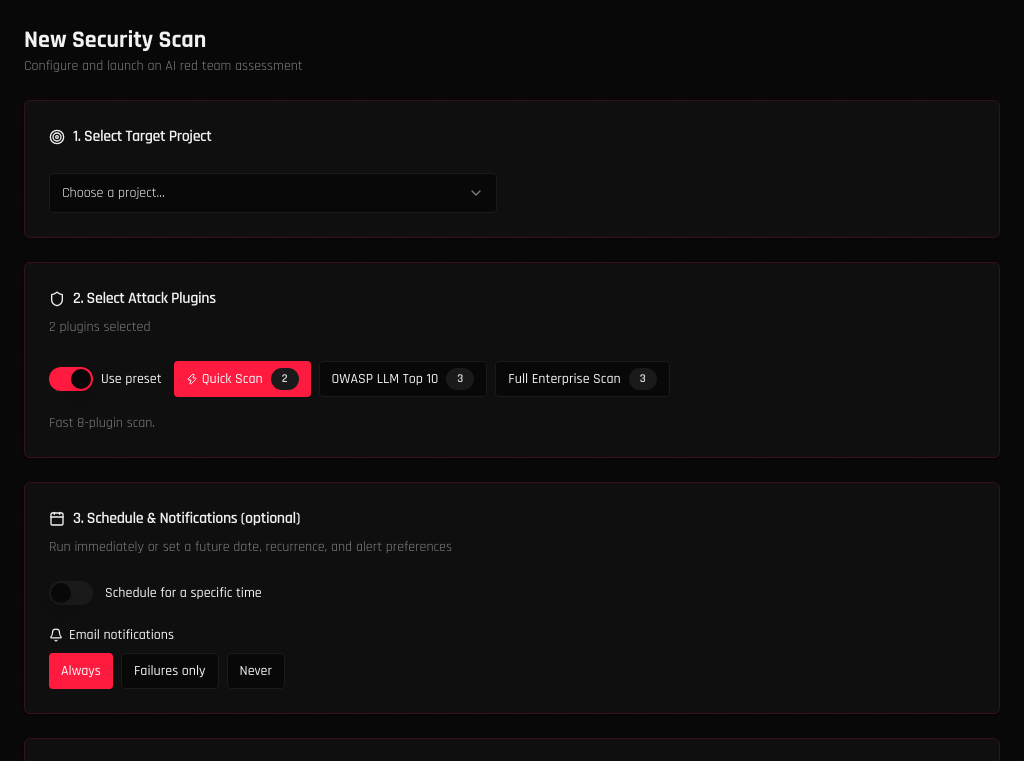
Scenario: ScanBuilder page › shows the plugin catalog grid after toggling off 'Use preset'
The image size is (1024, 761).
Expected: the text "Use preset" is shown, [101, 372, 162, 386]
# Toggle off "Use preset" to show the manual plugin grid
Click the switch named "use preset" next to "Use preset".
click(71, 379)  # box [49, 367, 93, 391]
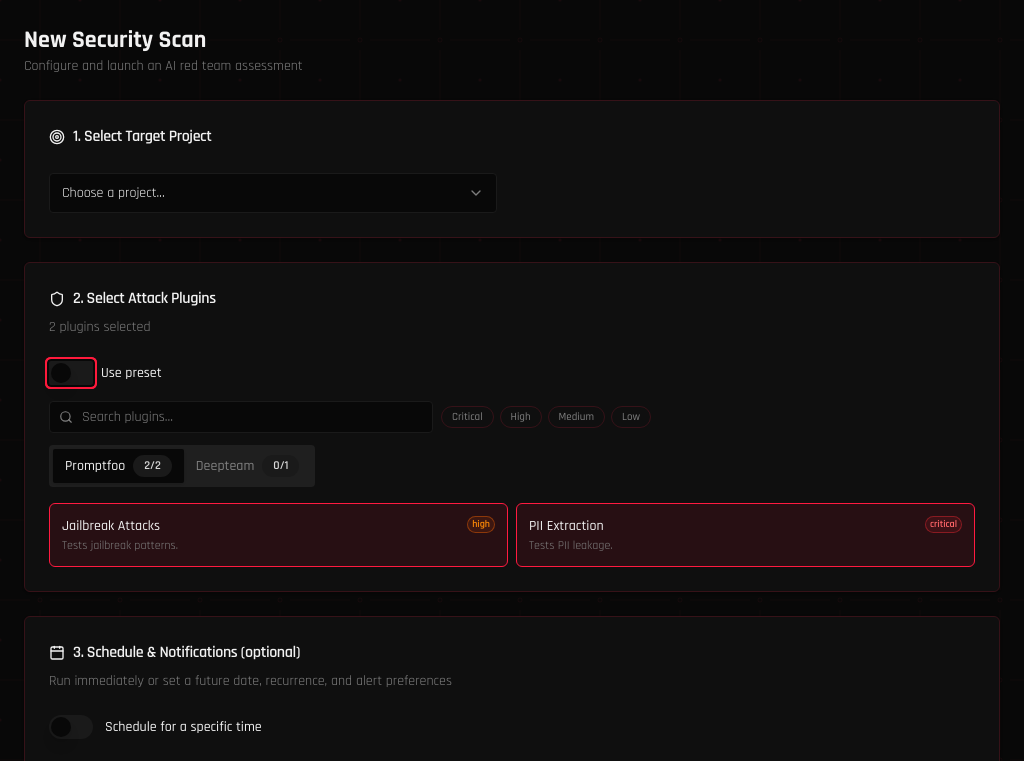
Expected: the text "Jailbreak Attacks" is shown, [62, 517, 160, 535]
Expected: the text "PII Extraction" is shown, [529, 517, 604, 535]
